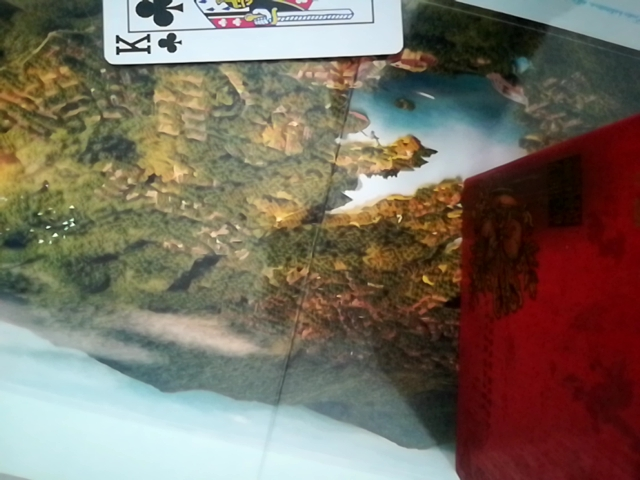mh k: (80, 0, 407, 63)
